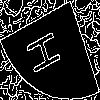H: (25, 24, 69, 77)
